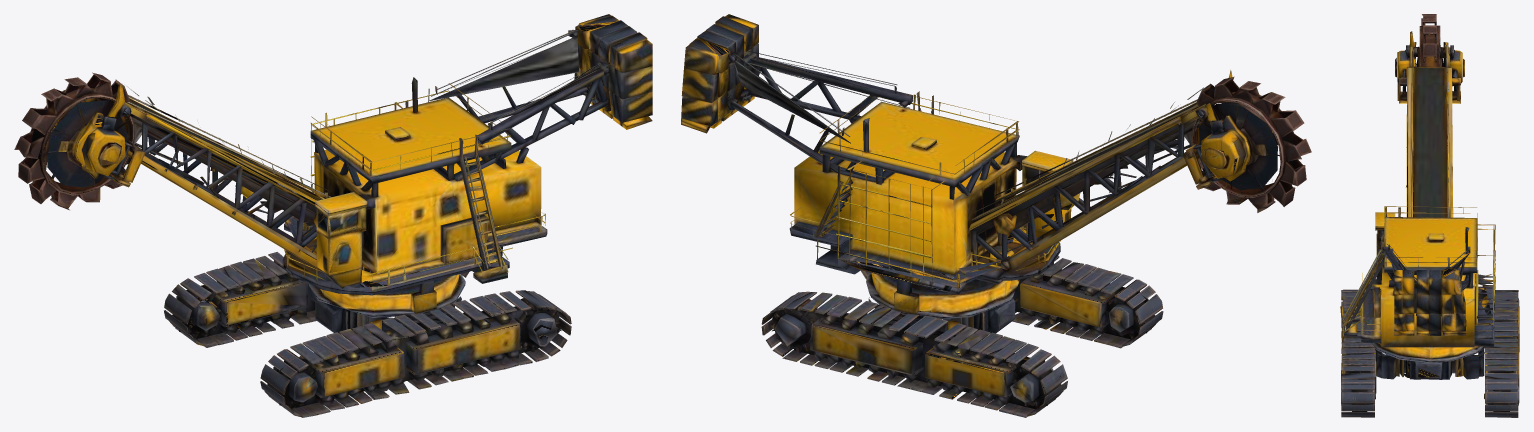
The model's file is mining_excavator_deck.glb.
The picture shows the model from 3 angles, left to right: view 1: azimuth 30°, elevation 25°; view 2: azimuth 150°, elevation 25°; view 3: azimuth 270°, elevation 25°; orthographic projection. The views are drawn at different scales.
Parts seen in each view (by area): view 1: turn, geometry_0_lod; view 2: turn, geometry_0_lod; view 3: turn, geometry_0_lod.
Boxes of the visible parts, <box> form: turn: <box>14,14,652,417</box>; geometry_0_lod: <box>24,15,645,407</box>; turn: <box>681,14,1311,417</box>; geometry_0_lod: <box>690,17,1301,410</box>; turn: <box>1340,14,1519,417</box>; geometry_0_lod: <box>1343,18,1519,413</box>.
Bounding box in the file's own units: 30.43 × 16 × 10.42.
Materials: 1 (1 with a texture image).
